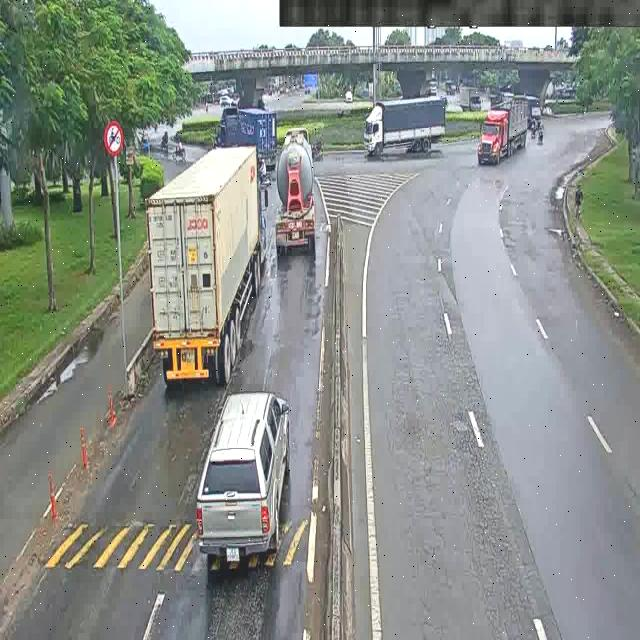car: (196, 389, 288, 572)
motorbike: (530, 121, 552, 155), (154, 132, 172, 157), (171, 134, 186, 158)
truck: (149, 138, 277, 385), (269, 129, 326, 263), (355, 100, 459, 161), (478, 97, 535, 182), (213, 108, 278, 173)
